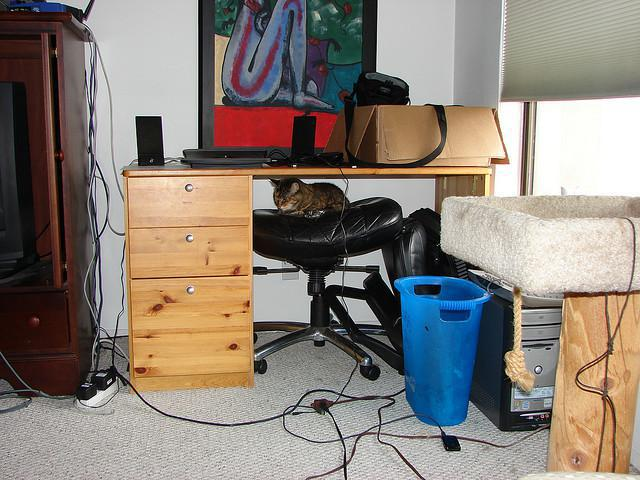phone: (132, 116, 162, 167)
tv: (202, 4, 385, 167)
